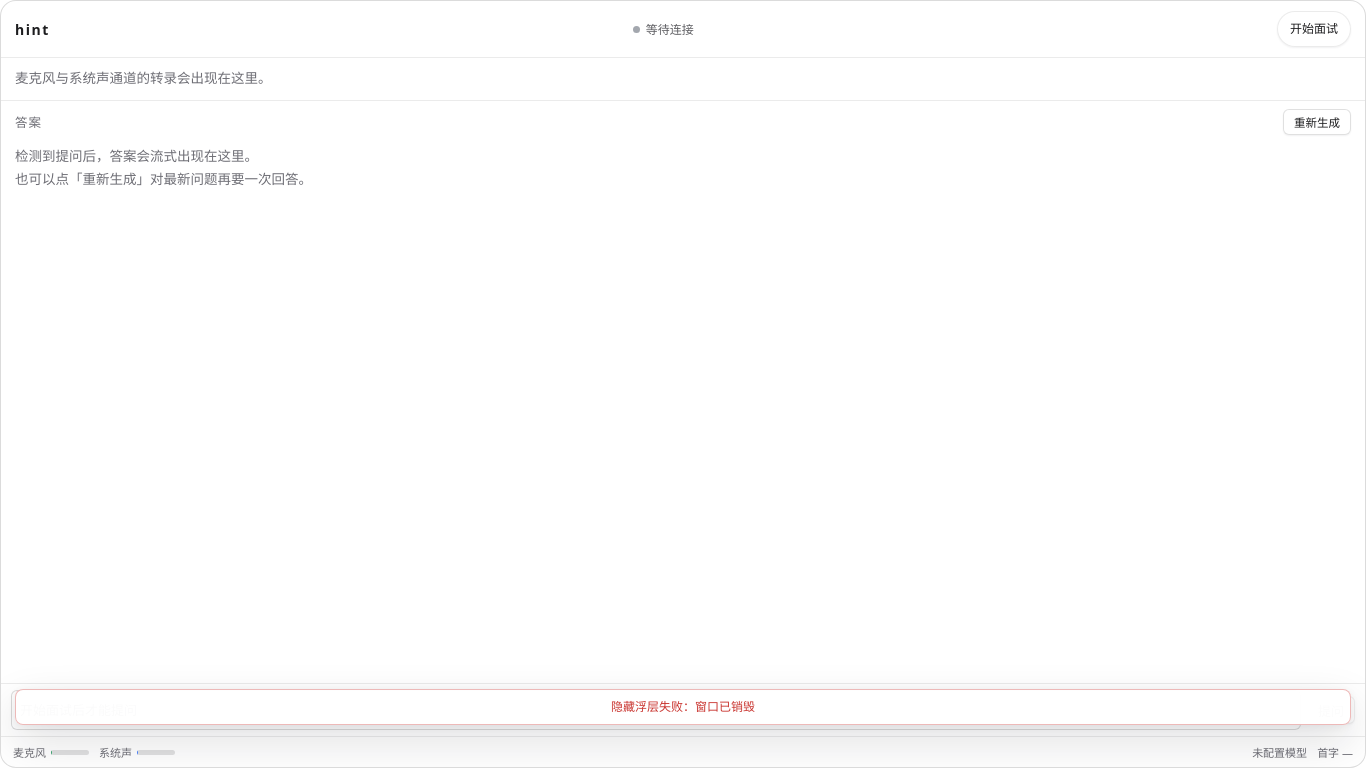
it: Overlay —— Esc 隐藏浮层 › hide_overlay 失败时弹错误 toast，可点击关闭
Click the message "隐藏浮层失败：窗口已销毁".
click(683, 707)  # box [15,689,1351,725]
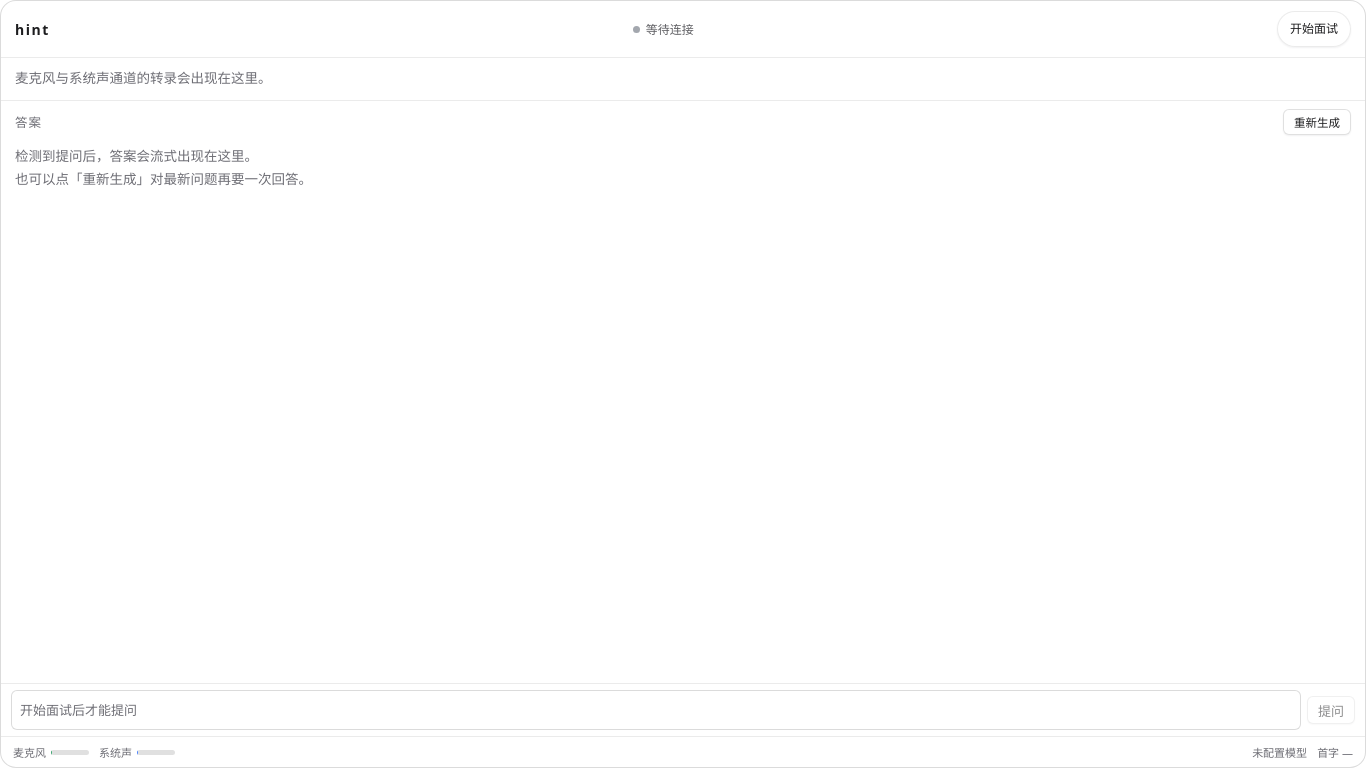
Result: the message "隐藏浮层失败：窗口已销毁" is gone
